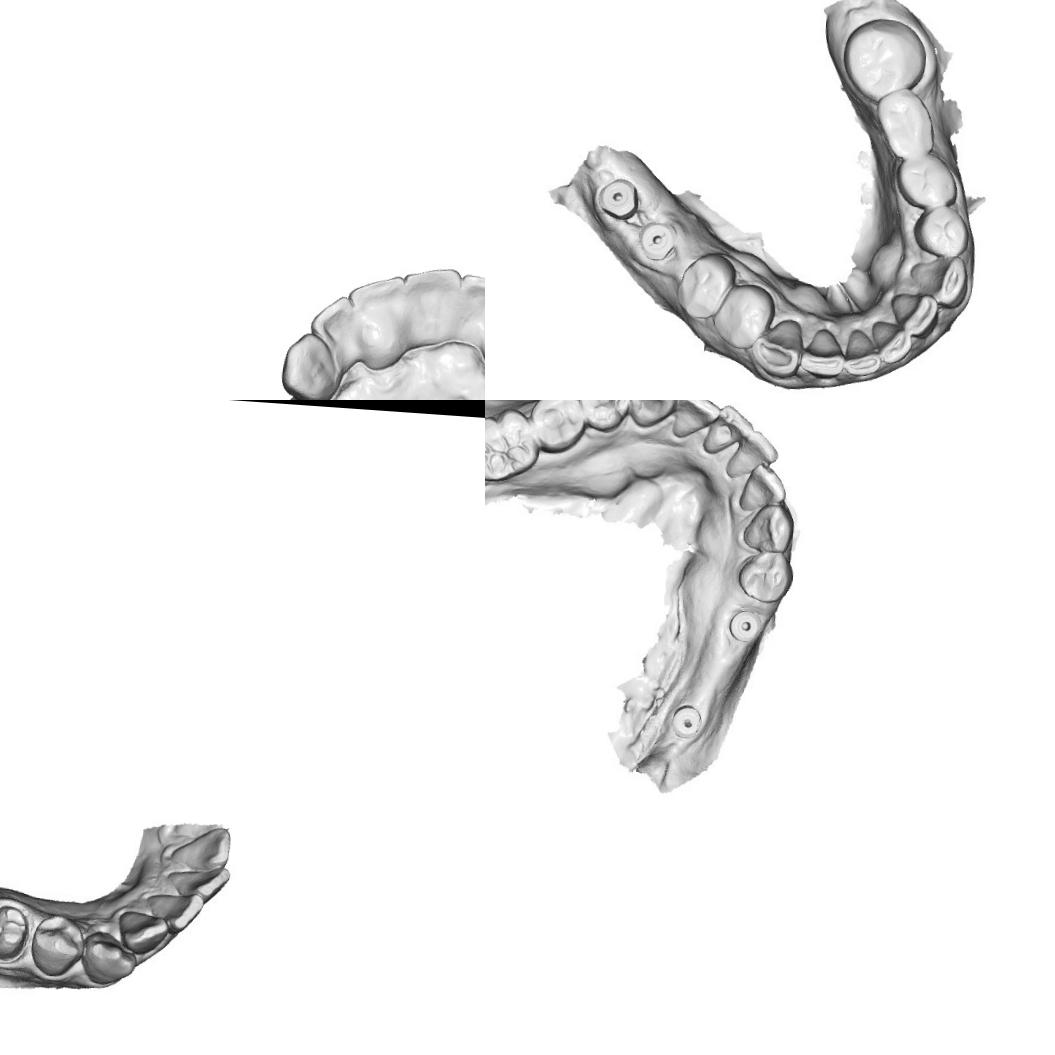canine: (276, 328, 347, 400), (79, 930, 137, 991), (908, 251, 970, 308), (754, 316, 802, 379), (739, 502, 796, 553), (623, 400, 676, 427)
crown: (0, 895, 35, 968)
implant: (591, 175, 643, 222), (727, 606, 762, 641), (671, 702, 704, 739)
implant_minus: (633, 216, 681, 264)
incisor: (341, 269, 413, 374), (398, 265, 468, 352), (307, 291, 367, 374), (453, 272, 485, 356), (172, 824, 227, 872), (799, 326, 846, 380), (170, 862, 228, 903), (890, 290, 939, 338), (729, 426, 776, 475), (742, 464, 787, 512), (118, 907, 164, 953), (872, 318, 916, 366), (844, 326, 882, 379), (672, 400, 721, 438), (150, 892, 198, 929), (706, 407, 748, 448)
molar: (842, 16, 930, 100), (874, 86, 939, 156), (485, 407, 538, 477)
premolar: (671, 251, 738, 322), (710, 283, 770, 347), (29, 915, 84, 978), (899, 150, 958, 207), (736, 548, 793, 606), (916, 206, 972, 250), (533, 400, 582, 450), (577, 400, 632, 433)
